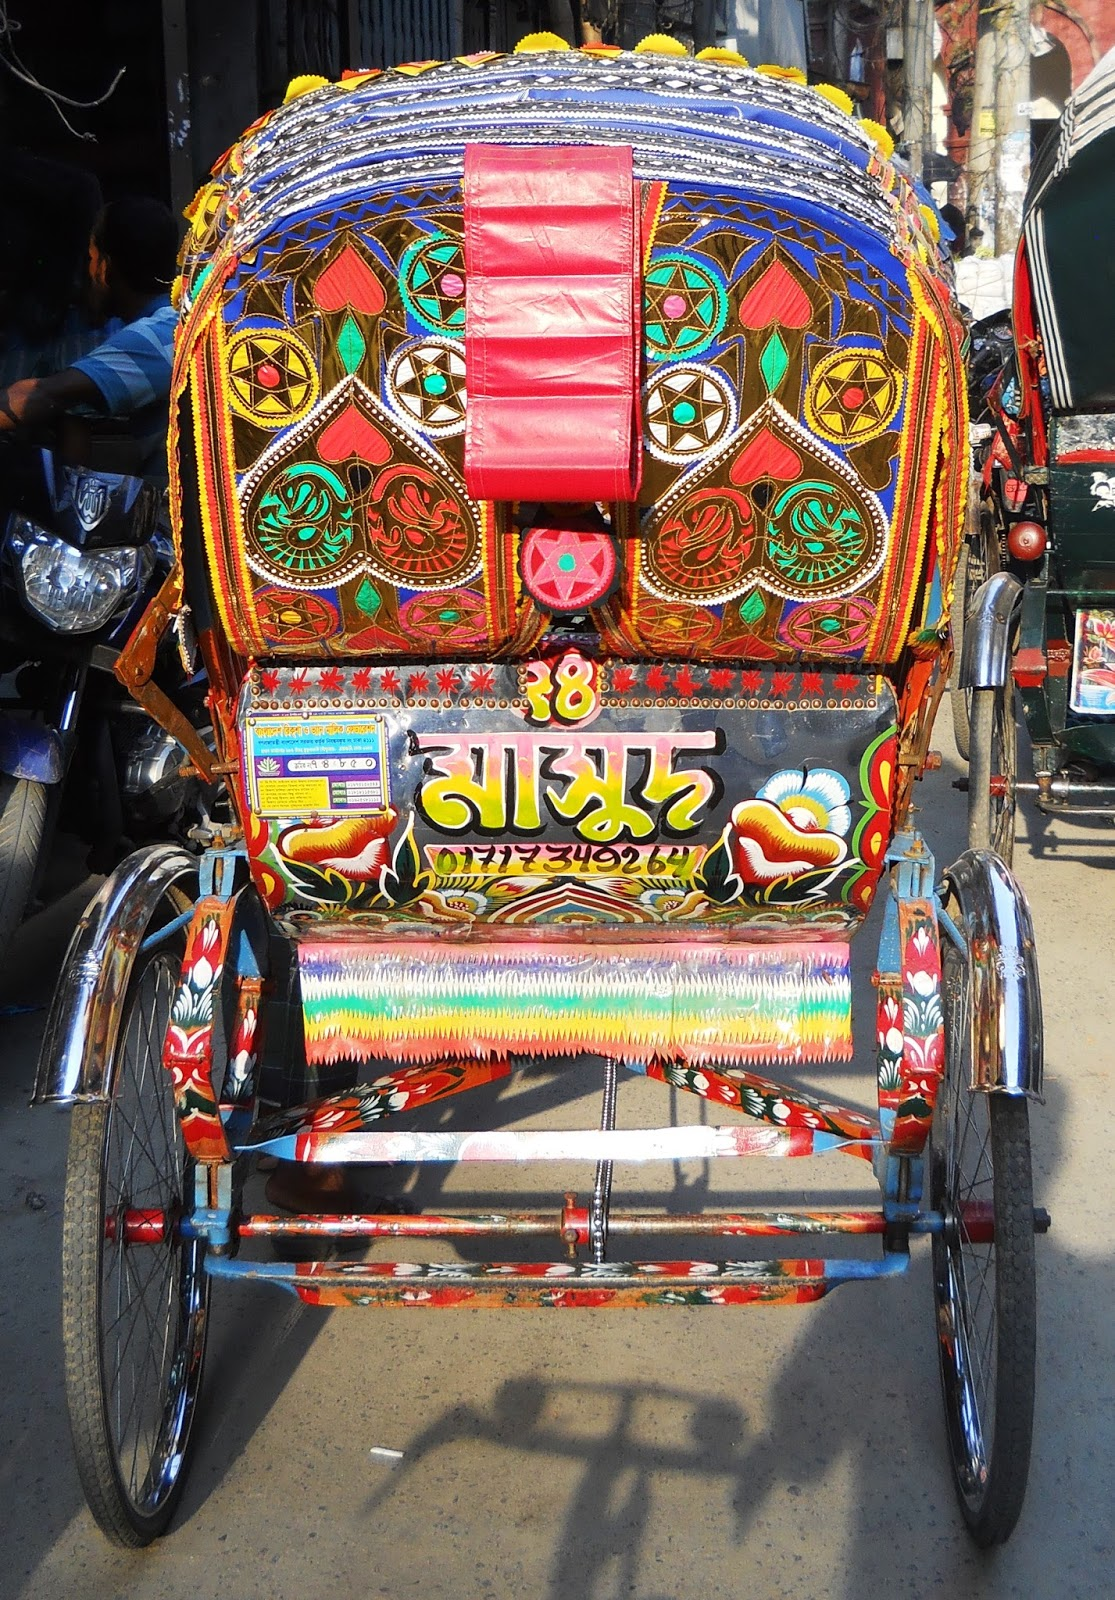Rickshaw: (100, 52, 1018, 1548)
